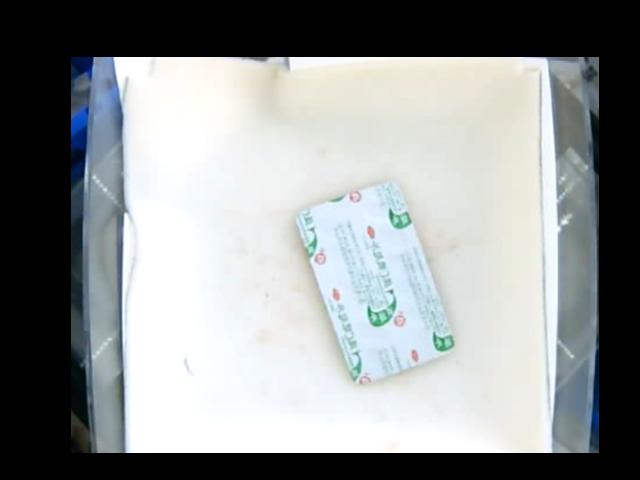Medicine: (296, 179, 456, 382)
